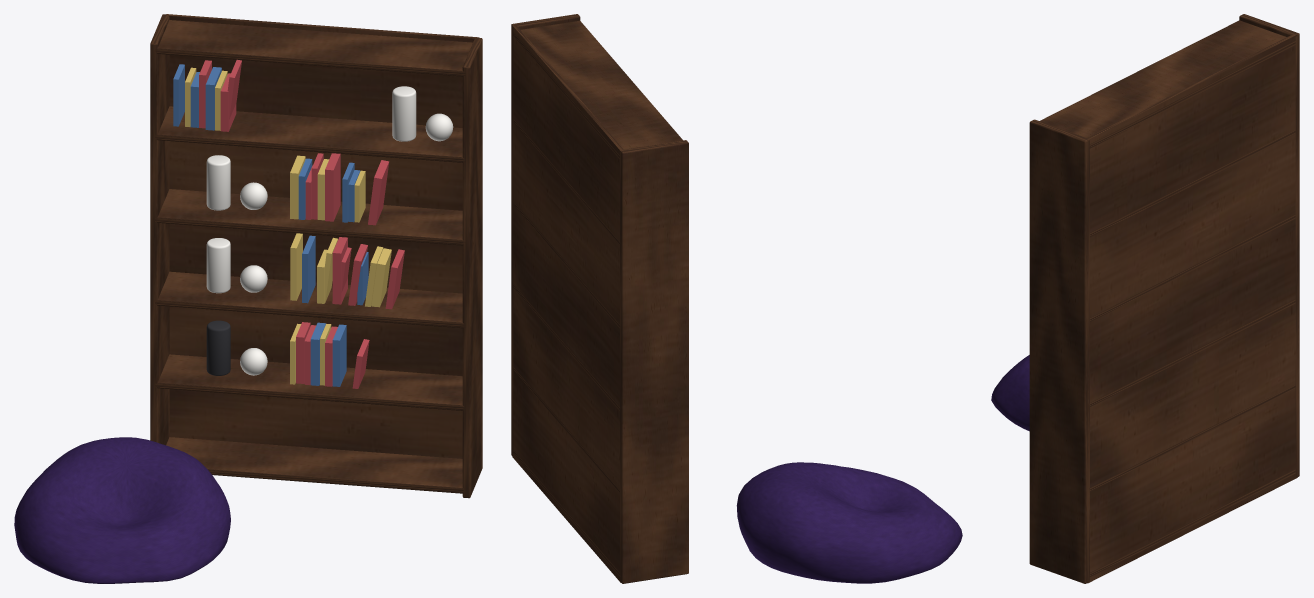
Rendered from lounge_extras.glb.
The picture shows the model from 3 angles, left to right: view 1: azimuth 30°, elevation 25°; view 2: azimuth 150°, elevation 25°; view 3: azimuth 270°, elevation 25°; orthographic projection. The views are drawn at different scales.
Visible parts, largest first — view 1: Lounge_Extras; view 2: Lounge_Extras; view 3: Lounge_Extras.
Boxes of the visible parts, x1=… form: Lounge_Extras: x1=14, y1=14, x2=482, y2=583; Lounge_Extras: x1=511, y1=14, x2=962, y2=583; Lounge_Extras: x1=991, y1=14, x2=1299, y2=583.
Size of the model in its own units: 2.58 by 2.4 by 1.51.
8 materials, 2 textured.
